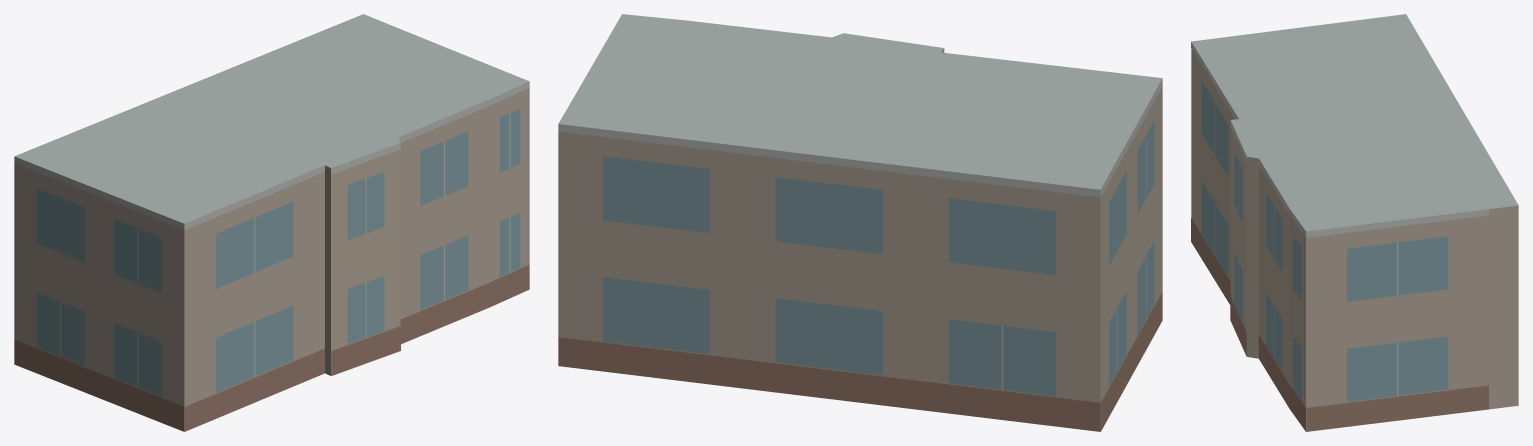
The model's file is survey-upis-32614482.glb.
3 renders of one model, left to right at view 1: azimuth 30°, elevation 25°; view 2: azimuth 150°, elevation 25°; view 3: azimuth 270°, elevation 25°, orthographic. The views are drawn at different scales.
Parts seen in each view (by area): view 1: survey-upis-32614482.tmp; view 2: survey-upis-32614482.tmp; view 3: survey-upis-32614482.tmp.
Part boxes in pixels (left/top/right/bottom): survey-upis-32614482.tmp: left=14, top=14, right=529, bottom=431; survey-upis-32614482.tmp: left=558, top=14, right=1162, bottom=431; survey-upis-32614482.tmp: left=1191, top=14, right=1518, bottom=431.
Bounding box in the file's own units: 17.96 × 7.7 × 11.43.
